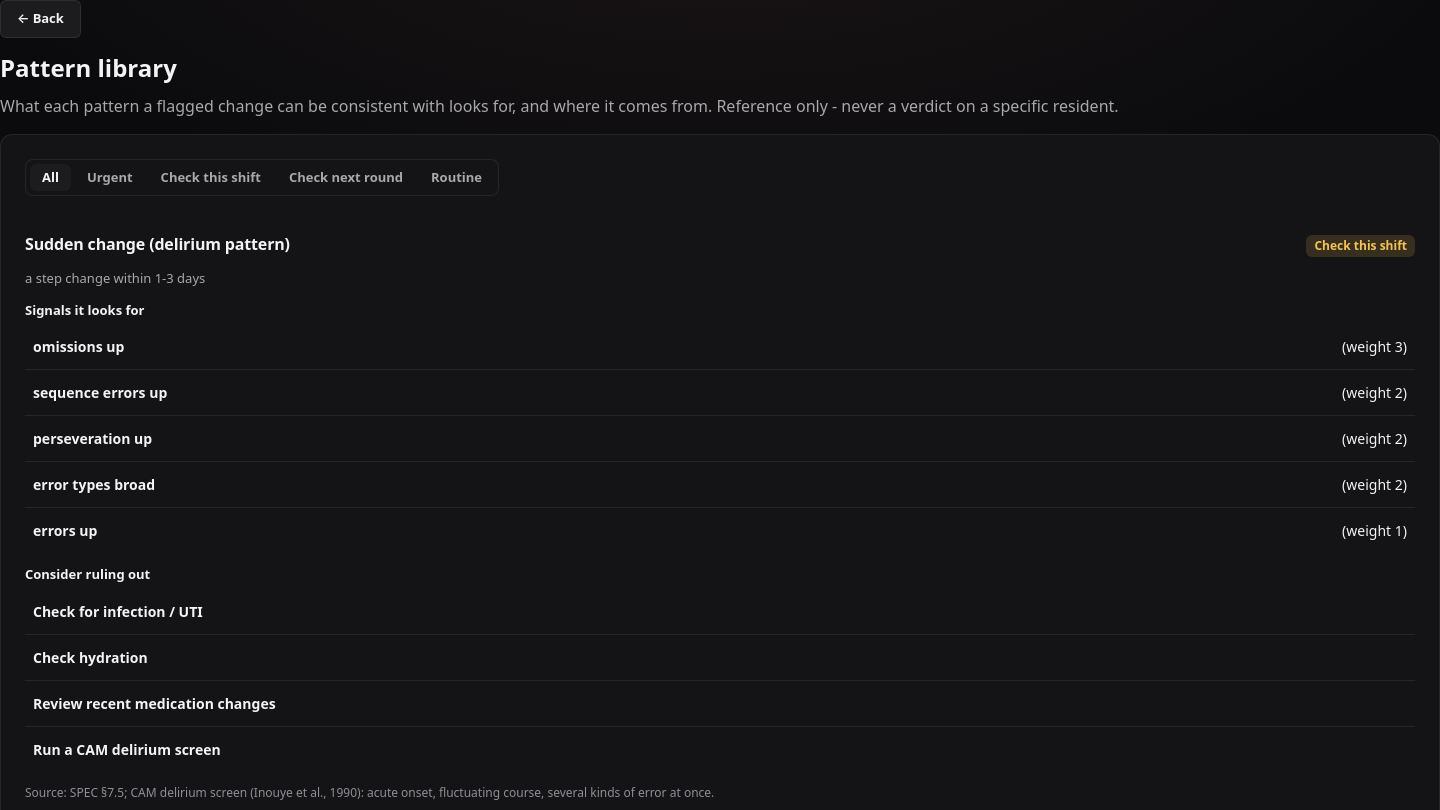
PatternLibrary › shows an empty state, not an error, when a level has no patterns
Expected: the heading "Sudden change (delirium pattern)" is shown, [25, 232, 290, 256]
Step 1. Click the button "Check next round" → point(346, 177), box [277, 164, 415, 191]
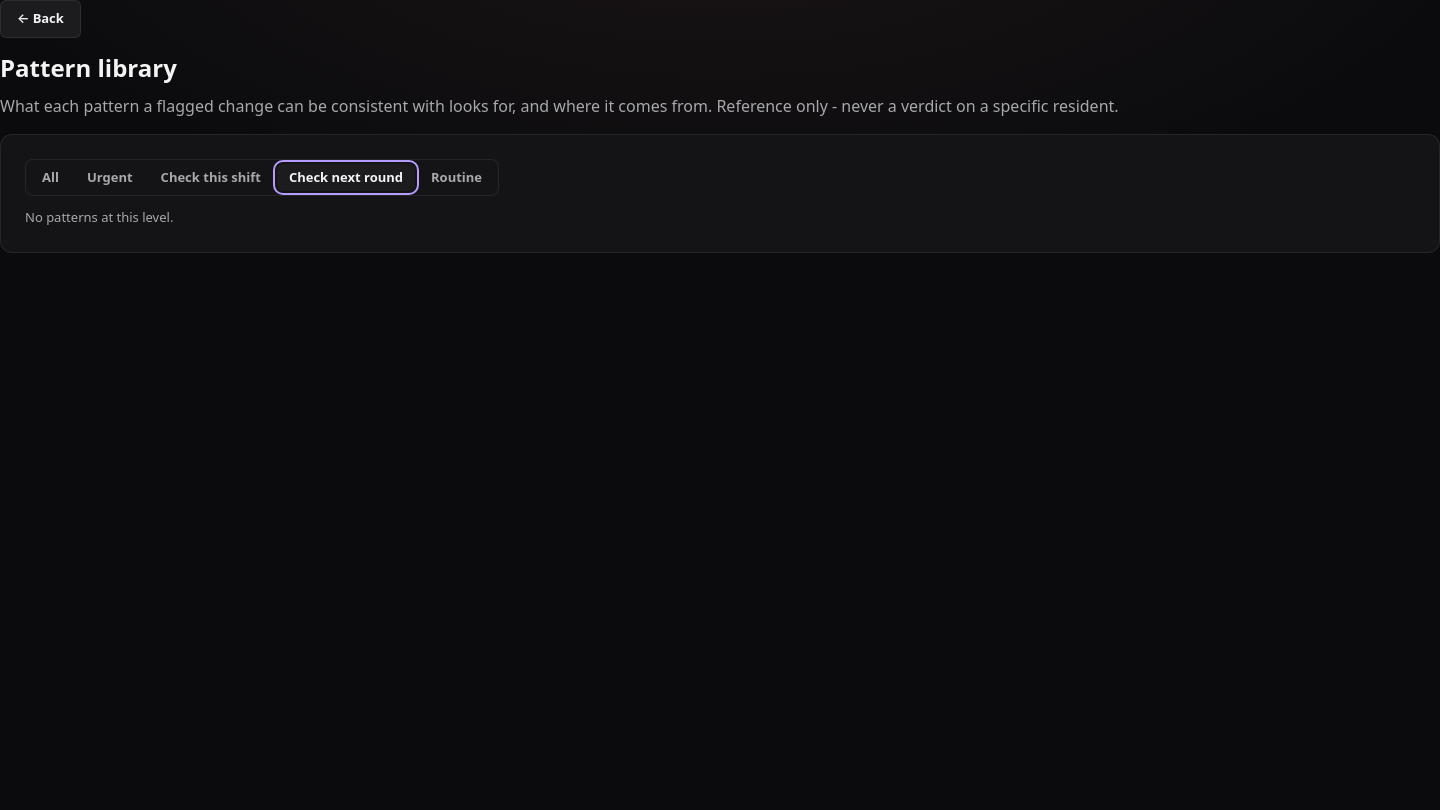
Expected: the text "No patterns at this level." is shown, [25, 208, 173, 226]
